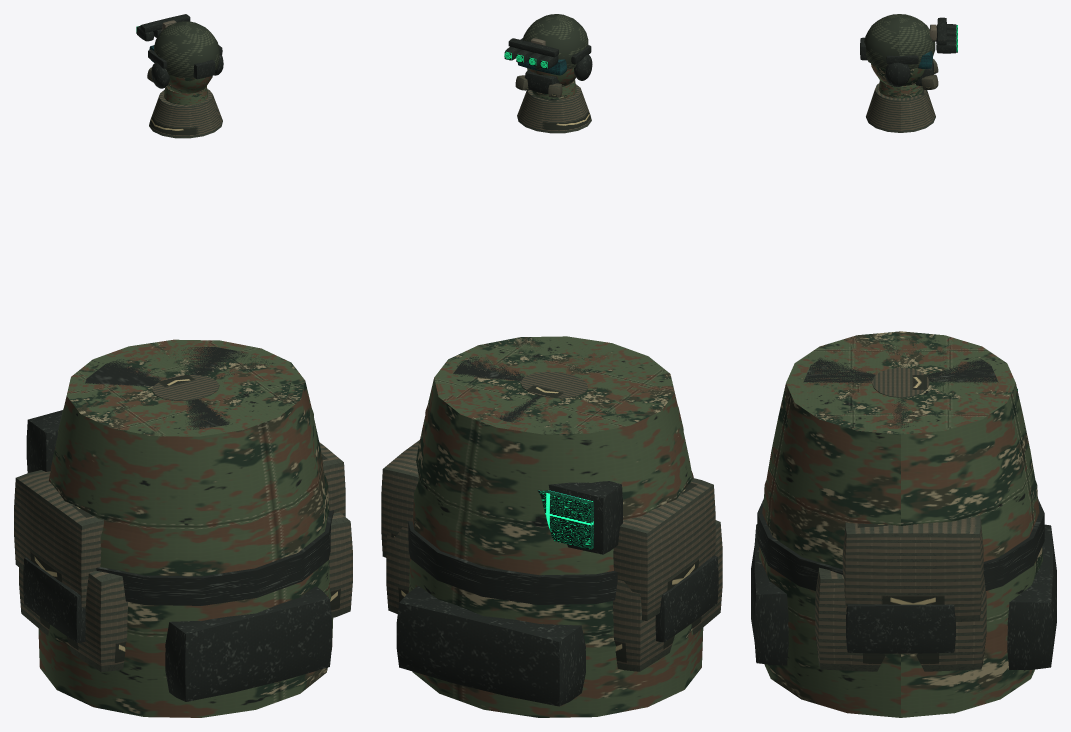
File: player_kit_camo_light.glb
3 views of the same model, side by side, from view 1: azimuth 30°, elevation 25°; view 2: azimuth 150°, elevation 25°; view 3: azimuth 270°, elevation 25° (orthographic).
Visible parts, largest first — view 1: LThigh, LUpperArm, LForearm, AvatarHead, LShin, RUpperArm, Jacket, RThigh; view 2: LThigh, LUpperArm, LShin, LForearm, AvatarHead, RThigh, RUpperArm, Jacket; view 3: LThigh, LUpperArm, RThigh, RUpperArm, LForearm, AvatarHead, LShin, Jacket.
Part boxes in pixels (left/top/right/bottom): LThigh: left=14, top=339, right=333, bottom=717; LUpperArm: left=19, top=341, right=331, bottom=672; LForearm: left=26, top=346, right=331, bottom=701; AvatarHead: left=136, top=14, right=223, bottom=138; LShin: left=82, top=379, right=285, bottom=425; RUpperArm: left=329, top=512, right=352, bottom=617; Jacket: left=152, top=375, right=219, bottom=400; RThigh: left=319, top=442, right=345, bottom=516; LThigh: left=408, top=336, right=715, bottom=717; LUpperArm: left=408, top=338, right=722, bottom=671; LShin: left=396, top=344, right=585, bottom=706; LForearm: left=450, top=345, right=660, bottom=554; AvatarHead: left=504, top=14, right=592, bottom=133; RThigh: left=381, top=440, right=419, bottom=557; RUpperArm: left=386, top=527, right=409, bottom=613; Jacket: left=520, top=372, right=588, bottom=398; LThigh: left=757, top=331, right=1044, bottom=717; LUpperArm: left=764, top=335, right=1037, bottom=657; RThigh: left=842, top=516, right=983, bottom=621; RUpperArm: left=815, top=567, right=986, bottom=671; LForearm: left=751, top=337, right=1017, bottom=665; AvatarHead: left=860, top=14, right=957, bottom=132; LShin: left=803, top=360, right=1056, bottom=669; Jacket: left=872, top=367, right=929, bottom=397.
Bounding box in the file's own units: 1.04 × 2.3 × 1.
Materials: 1 (1 with a texture image).
